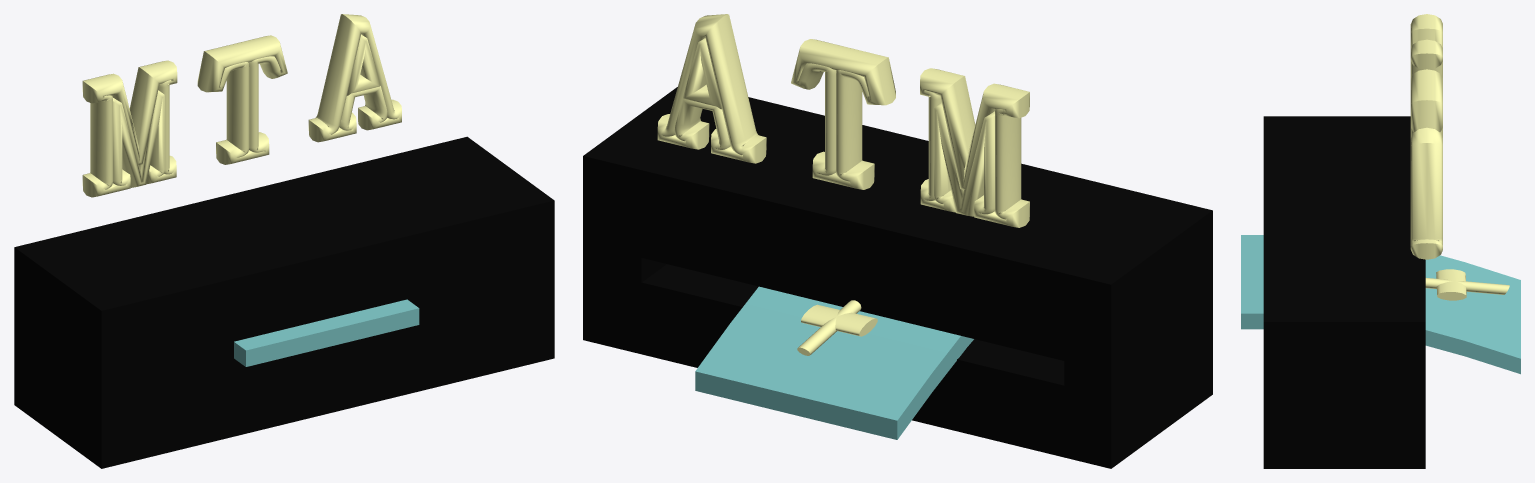
File: ATM.gltf
The picture shows the model from 3 angles, left to right: view 1: azimuth 30°, elevation 25°; view 2: azimuth 150°, elevation 25°; view 3: azimuth 270°, elevation 25°; orthographic projection. The views are drawn at different scales.
Visible parts, largest first — view 1: node_Box007_-59288, node_Text002_-59292, node_Box009_-59290; view 2: node_Box007_-59288, node_Text002_-59292, node_Box009_-59290, node_money_-59298; view 3: node_Box007_-59288, node_Box009_-59290, node_Text002_-59292, node_money_-59298.
Part boxes in pixels (x1,y1,x2,y2): node_Box007_-59288: (14, 136, 554, 468); node_Text002_-59292: (82, 14, 401, 197); node_Box009_-59290: (234, 299, 419, 366); node_Box007_-59288: (583, 87, 1212, 468); node_Text002_-59292: (657, 14, 1029, 227); node_Box009_-59290: (695, 286, 973, 439); node_money_-59298: (797, 300, 877, 355); node_Box007_-59288: (1263, 116, 1425, 468); node_Box009_-59290: (1241, 235, 1520, 374); node_Text002_-59292: (1410, 14, 1442, 259); node_money_-59298: (1425, 269, 1509, 300).
Bounding box in the file's own units: 0.0301 × 0.0195 × 0.0173.
